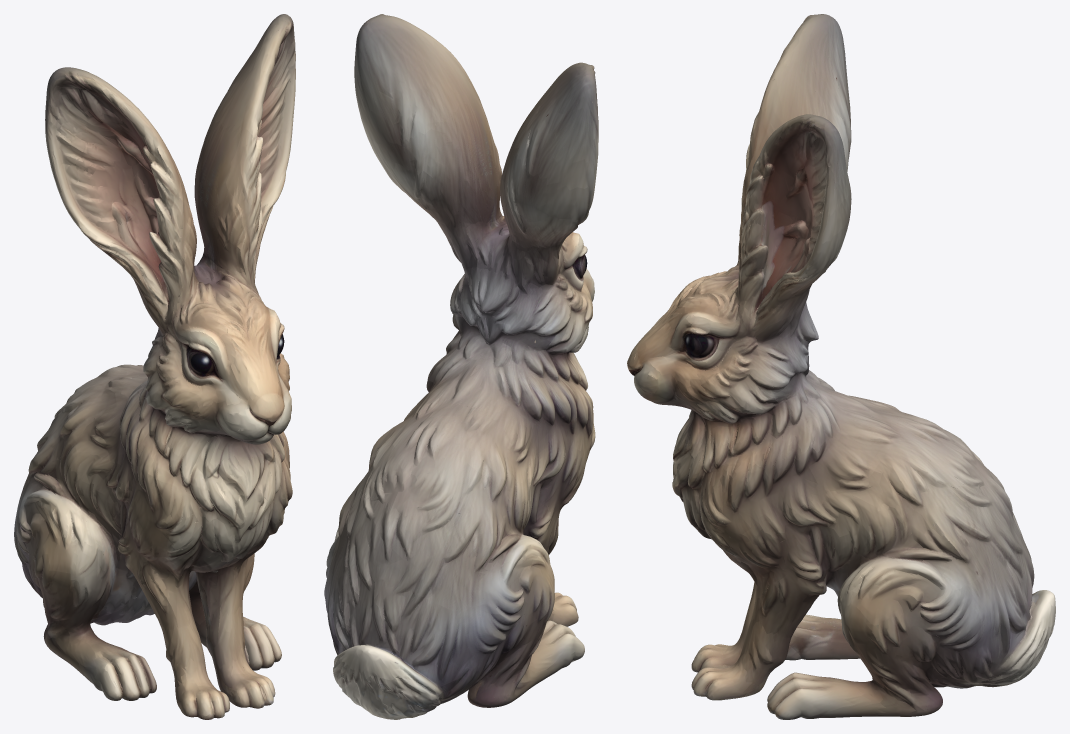
File: hare.glb
3 views of the same model, side by side, from view 1: azimuth 30°, elevation 25°; view 2: azimuth 150°, elevation 25°; view 3: azimuth 270°, elevation 25° (orthographic). The views are drawn at different scales.
Visible parts, largest first — view 1: output_unwrapped; view 2: output_unwrapped; view 3: output_unwrapped.
Boxes of the visible parts, left/top/right/bottom form: output_unwrapped: left=14, top=14, right=295, bottom=719; output_unwrapped: left=324, top=14, right=598, bottom=719; output_unwrapped: left=627, top=14, right=1055, bottom=719.
Bounding box in the file's own units: 0.7931 × 1.9 × 1.2.
Materials: 1 (1 with a texture image).
